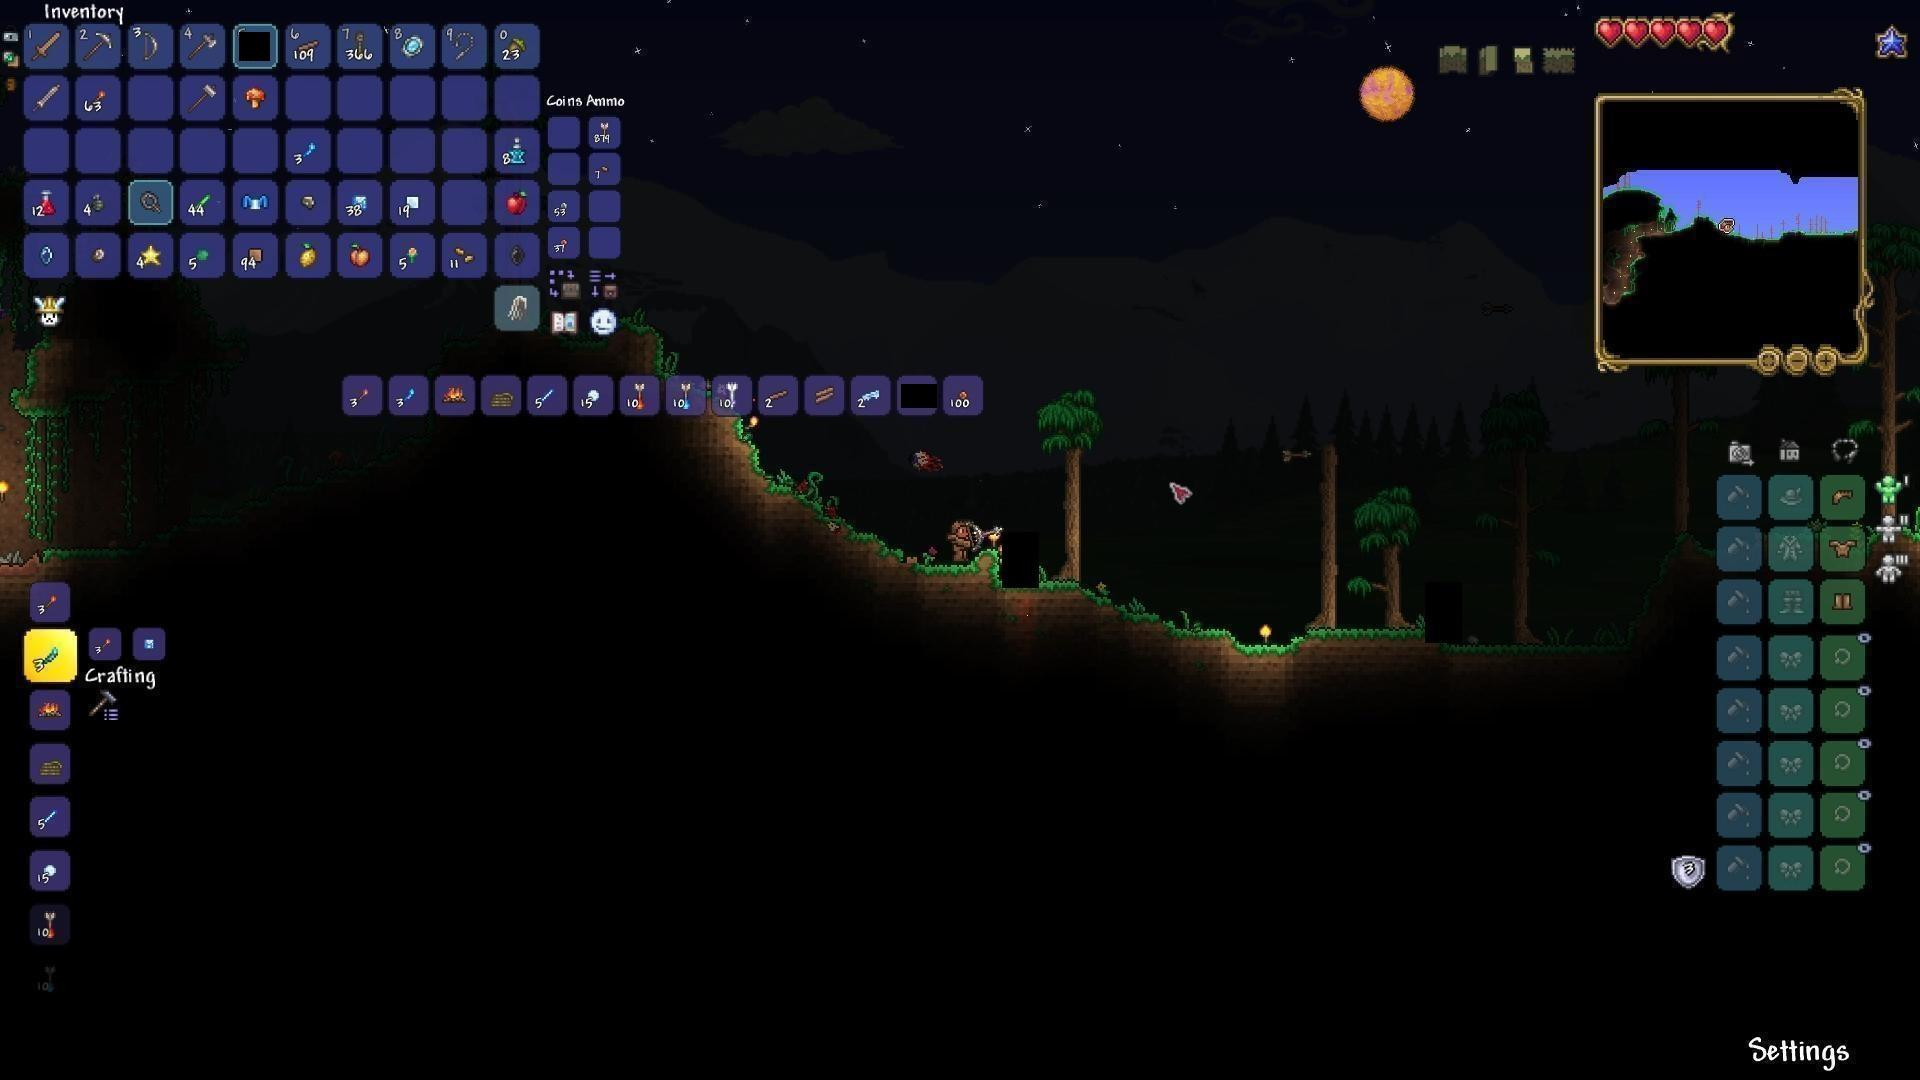breastplate: (1826, 537, 1858, 559)
helmet: (1825, 480, 1859, 512)
legs: (1830, 588, 1855, 617)
wood: (808, 382, 839, 410)
